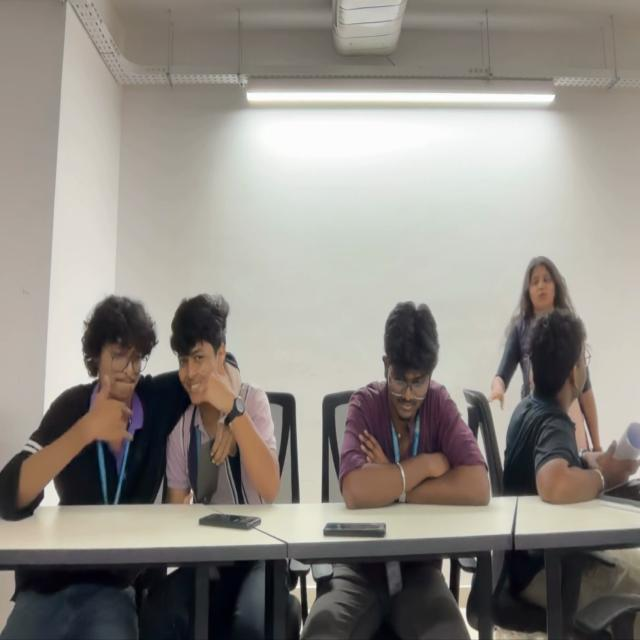Isolated: (334, 300, 488, 504)
socializing: (0, 290, 283, 508), (492, 259, 640, 493)
